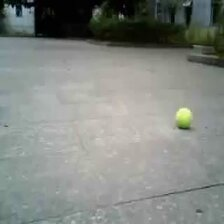tennis: (176, 108, 193, 127)
